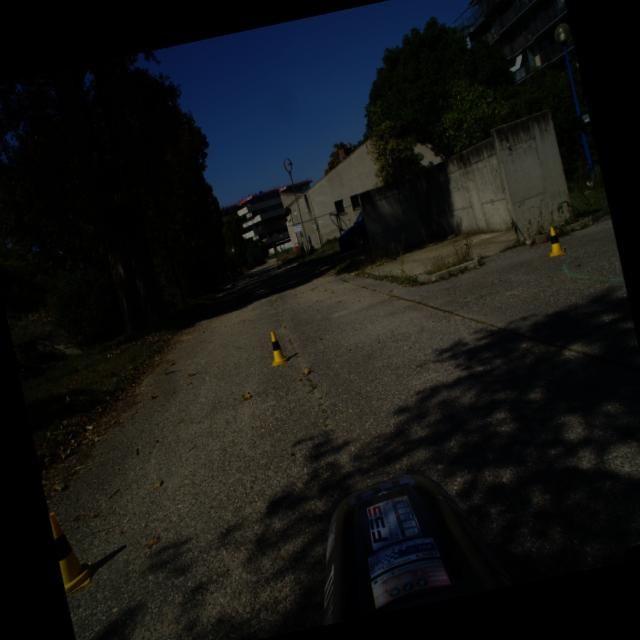yellow_cone: (48, 506, 94, 592), (263, 328, 290, 366), (542, 225, 566, 257)
